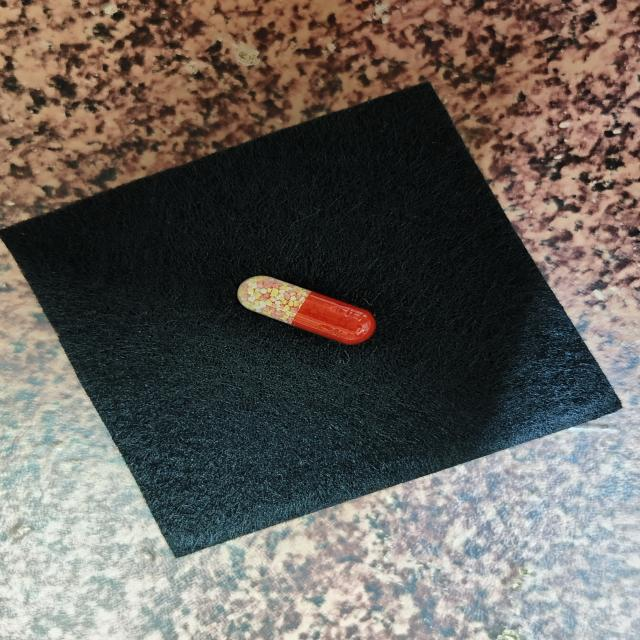Intact Capsule: (237, 275, 376, 344)
